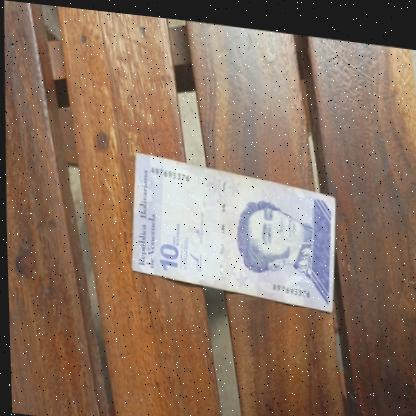vef_front: (127, 146, 336, 307)
